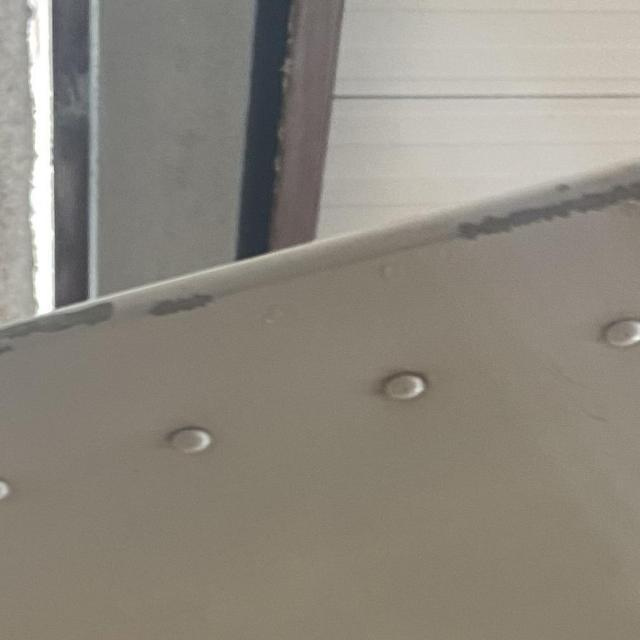Paint-off: (375, 167, 640, 269), (0, 297, 116, 352), (147, 291, 213, 314)
